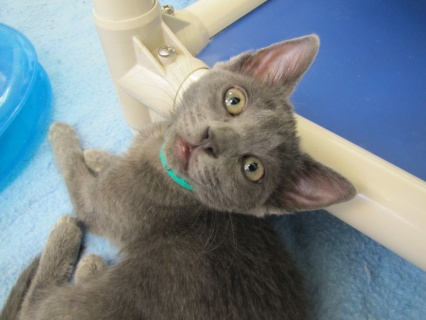Cat: (0, 32, 355, 319)
